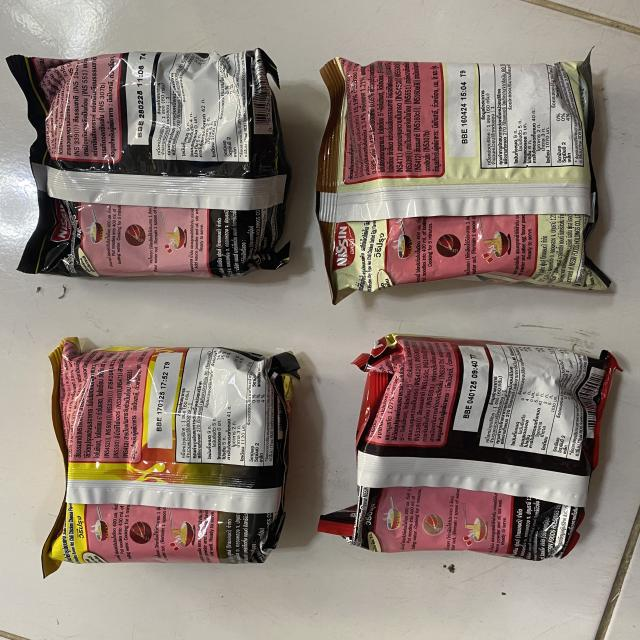plastik: (316, 55, 610, 304), (319, 335, 619, 560), (6, 49, 291, 278), (41, 338, 299, 576)
